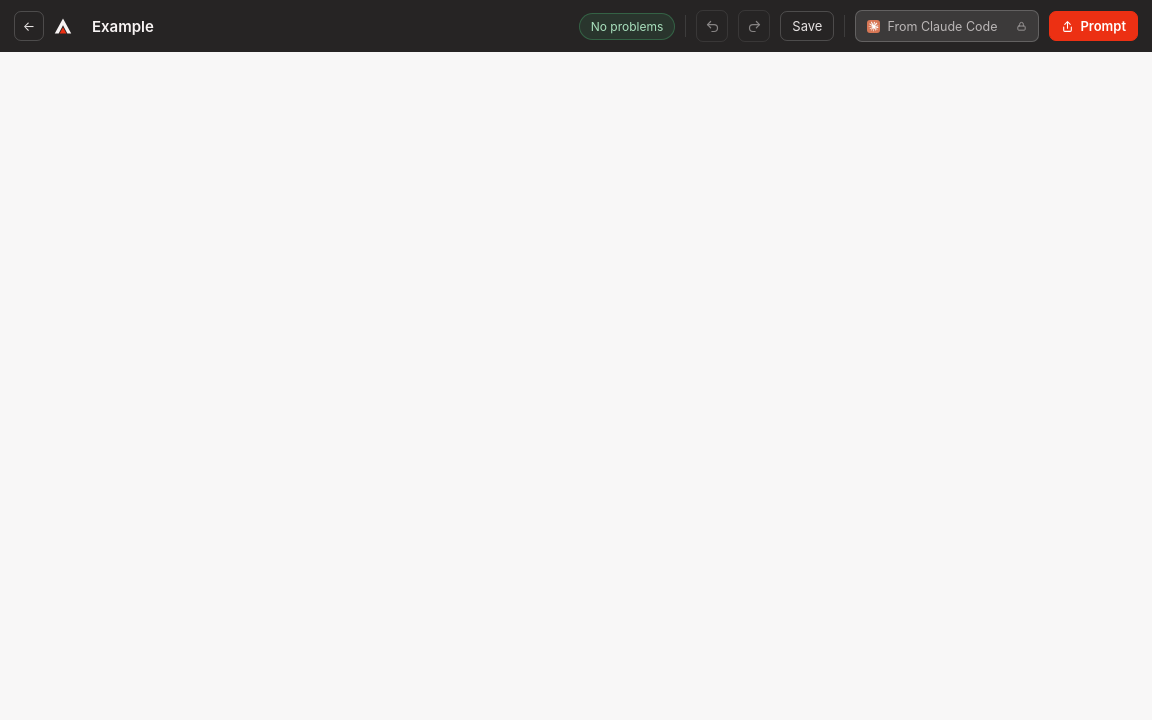
it: shows the task in the user's own words, from the control that names the source
expect the text "The user's own words" is not shown: met
Click the button "From Claude Code" at (947, 26), box 855,10 -> 1039,42
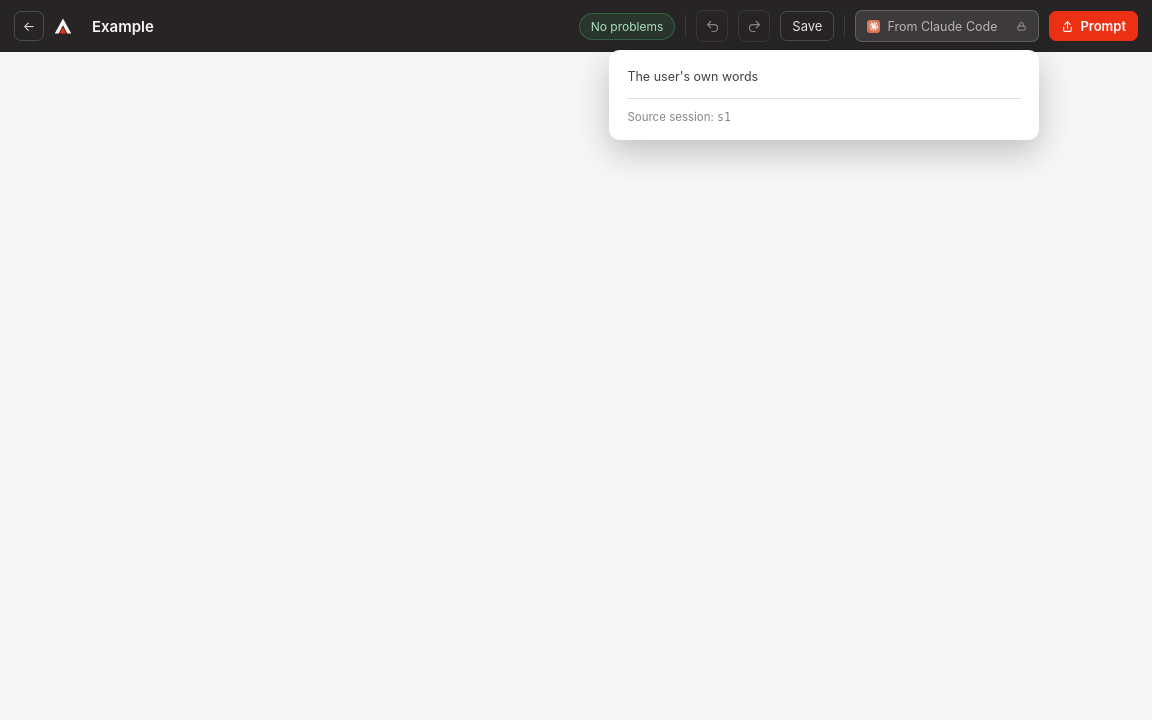
expect the text "The user's own words" is shown: met, box 627,69 -> 758,84
expect the text "s1" is shown: met, box 717,110 -> 731,124
